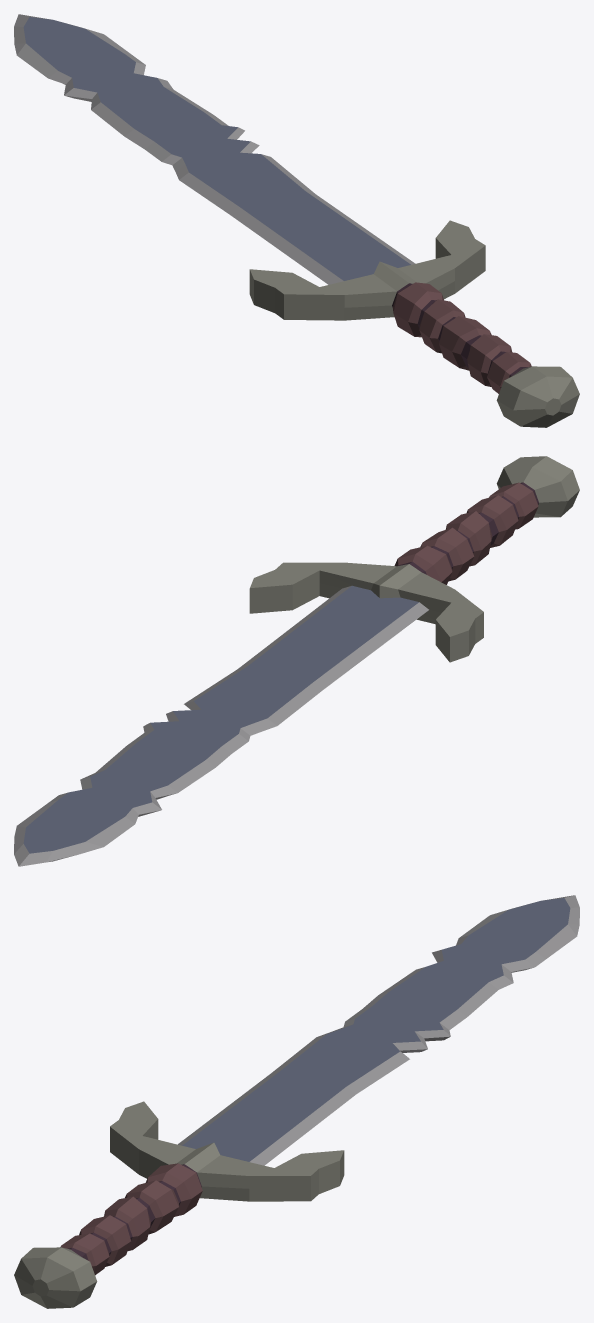
The picture shows the model from 3 angles, top to bottom: view 1: azimuth 30°, elevation 25°; view 2: azimuth 150°, elevation 25°; view 3: azimuth 330°, elevation 25°; orthographic projection.
Visible parts, largest first — view 1: Sword_Mesh; view 2: Sword_Mesh; view 3: Sword_Mesh.
Part boxes in pixels (x1,y1,x2,y2): Sword_Mesh: [14, 14, 579, 427]; Sword_Mesh: [14, 456, 579, 866]; Sword_Mesh: [14, 895, 579, 1308].
Size of what is drawn, in the model's own units: 0.1807 by 0.0413 by 0.7783.
